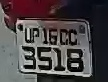1: (52, 46, 66, 74), (41, 26, 48, 46)
3: (22, 45, 36, 71)
5: (36, 45, 53, 72)
6: (48, 26, 59, 47)
8: (66, 46, 85, 74)
C: (68, 28, 80, 47), (58, 26, 69, 46)
P: (31, 27, 41, 44)
U: (23, 26, 32, 44)
